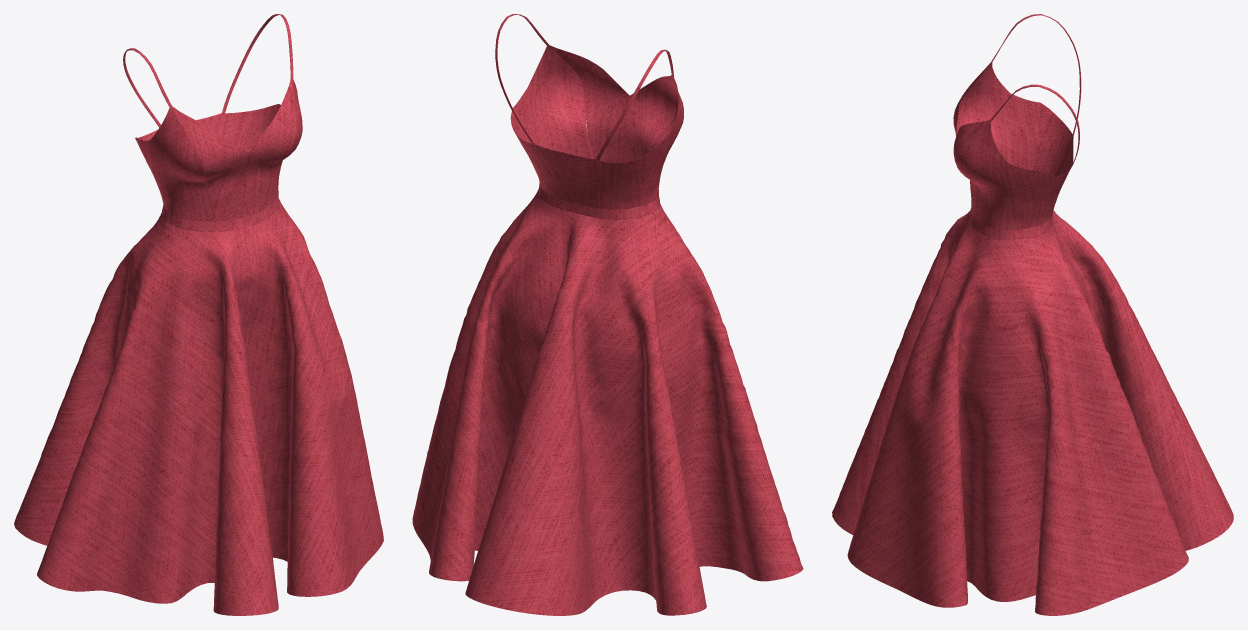
File: dress.glb
3 renders of one model, left to right at view 1: azimuth 30°, elevation 25°; view 2: azimuth 150°, elevation 25°; view 3: azimuth 270°, elevation 25°, orthographic. The views are drawn at different scales.
Visible parts, largest first — view 1: dress; view 2: dress; view 3: dress.
Boxes of the visible parts, bbox=[...] form: dress: bbox=[14, 14, 383, 615]; dress: bbox=[412, 14, 803, 615]; dress: bbox=[832, 14, 1233, 615].
Bounding box in the file's own units: 0.715 × 1.03 × 0.7286.
Materials: 1 (1 with a texture image).
